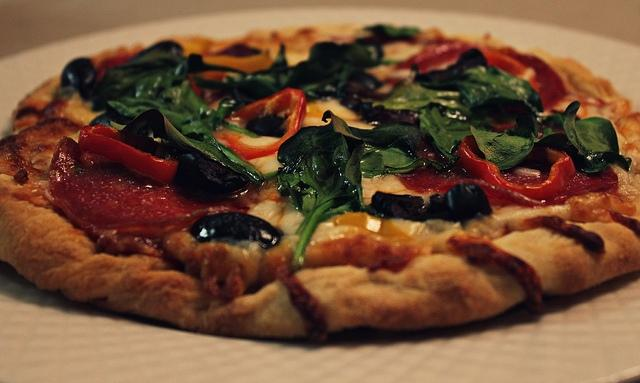bell pepper: (456, 134, 576, 202), (213, 88, 307, 161), (78, 124, 177, 184), (412, 40, 498, 70), (327, 212, 411, 240), (202, 49, 275, 72)
